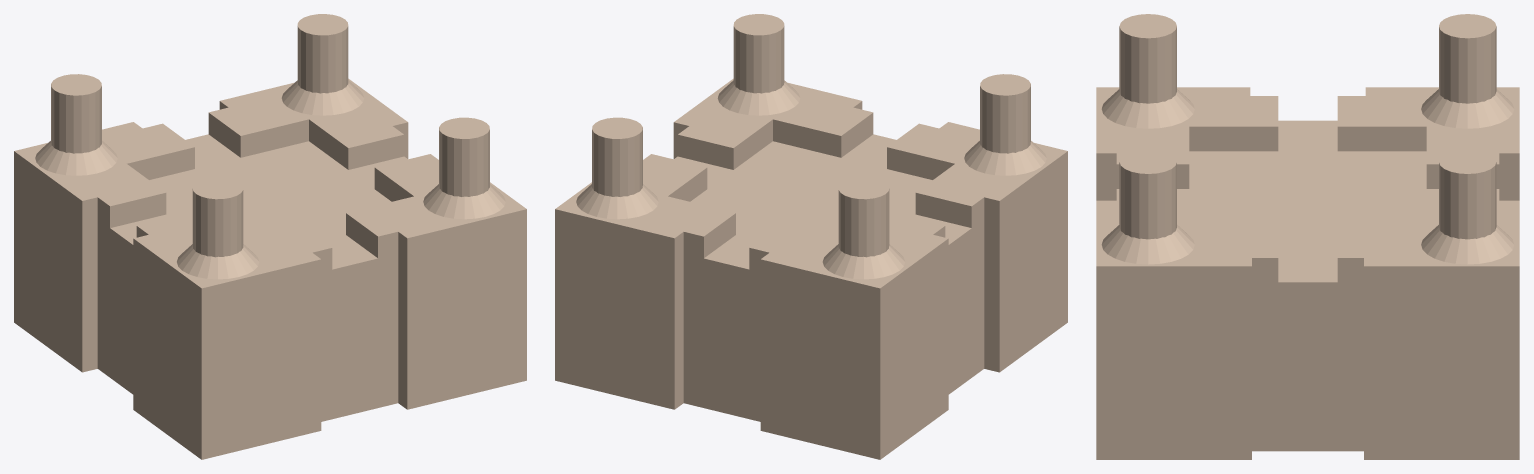
Rendered from ampli_block.glb.
3 renders of one model, left to right at view 1: azimuth 30°, elevation 25°; view 2: azimuth 150°, elevation 25°; view 3: azimuth 270°, elevation 25°, orthographic. The views are drawn at different scales.
Visible parts, largest first — view 1: Mesh_Mesh_head_geo.001_lambert2SG.001; view 2: Mesh_Mesh_head_geo.001_lambert2SG.001; view 3: Mesh_Mesh_head_geo.001_lambert2SG.001.
Part boxes in pixels (<box>): Mesh_Mesh_head_geo.001_lambert2SG.001: <box>14,14,526,459</box>; Mesh_Mesh_head_geo.001_lambert2SG.001: <box>555,14,1067,459</box>; Mesh_Mesh_head_geo.001_lambert2SG.001: <box>1096,14,1519,459</box>.
Size of the model in its own units: 12.5 by 9 by 12.5.
